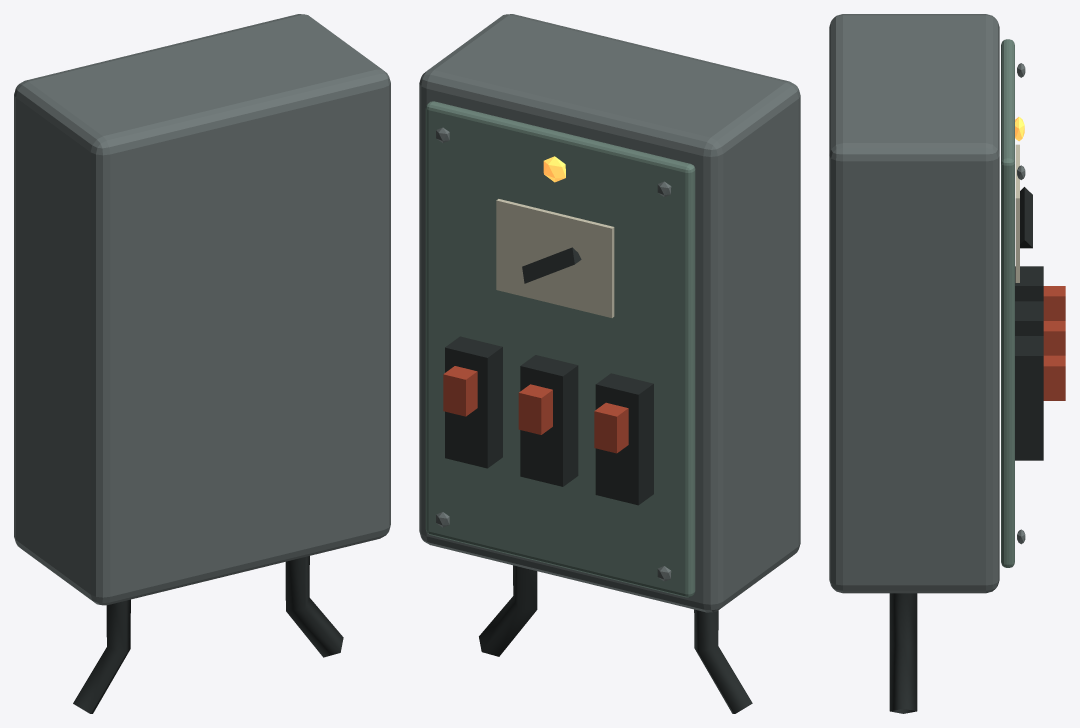
The model's file is power.glb.
3 renders of one model, left to right at view 1: azimuth 30°, elevation 25°; view 2: azimuth 150°, elevation 25°; view 3: azimuth 270°, elevation 25°, orthographic. The views are drawn at different scales.
Parts seen in each view (by area): view 1: power; view 2: power; view 3: power.
Part boxes in pixels (x1=…): power: x1=14, y1=14, x2=390, y2=713; power: x1=419, y1=14, x2=800, y2=713; power: x1=829, y1=14, x2=1065, y2=713.
Bounding box in the file's own units: 0.6 × 1.16 × 0.43.
